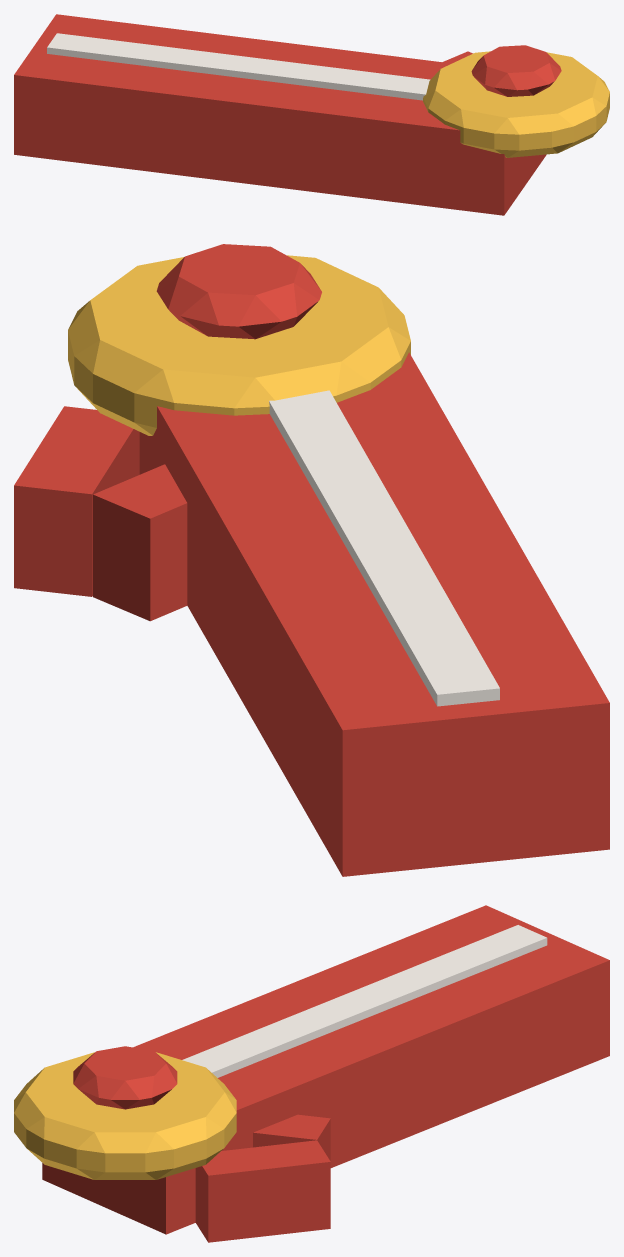
File: CatCafe_Accessory_Sash_Walk.glb
3 views of the same model, one above another, from view 1: azimuth 30°, elevation 25°; view 2: azimuth 150°, elevation 25°; view 3: azimuth 270°, elevation 25° (orthographic). The views are drawn at different scales.
Visible parts, largest first — view 1: CatCafe_Accessory_Sash_Walk; view 2: CatCafe_Accessory_Sash_Walk; view 3: CatCafe_Accessory_Sash_Walk.
Boxes of the visible parts, box(x1,y1,x2,y2) form: CatCafe_Accessory_Sash_Walk: box(14, 14, 609, 215); CatCafe_Accessory_Sash_Walk: box(14, 244, 609, 876); CatCafe_Accessory_Sash_Walk: box(14, 905, 609, 1242).
Bounding box in the file's own units: 0.5662 × 0.15 × 0.564.
1 material, 1 textured.
